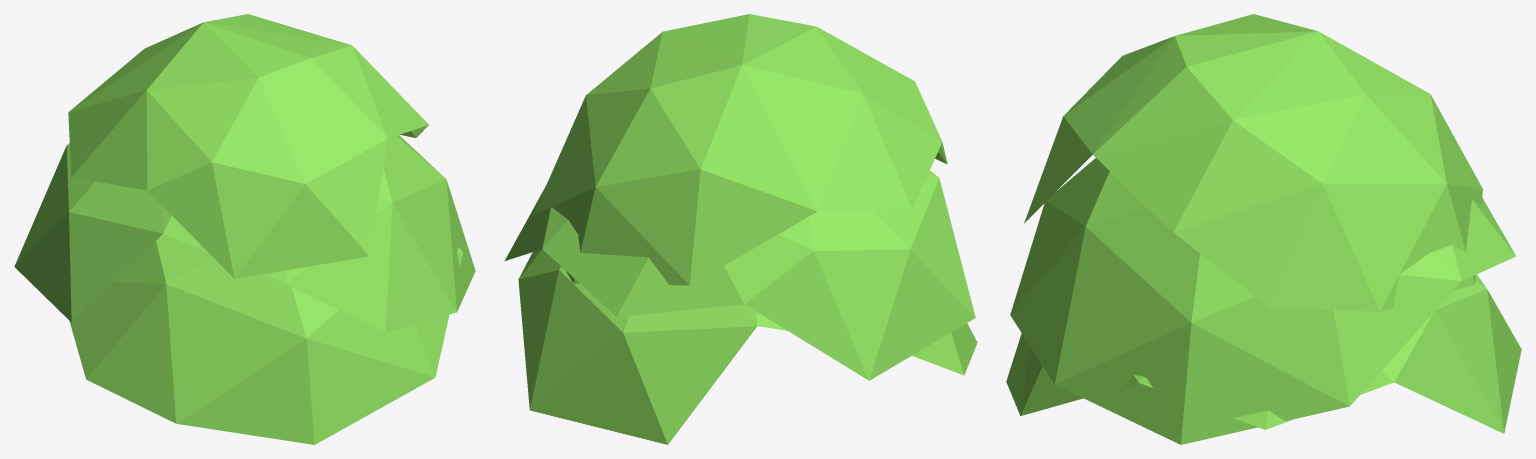
Rendered from BushMessy.fbx.
The picture shows the model from 3 angles, left to right: view 1: azimuth 30°, elevation 25°; view 2: azimuth 150°, elevation 25°; view 3: azimuth 270°, elevation 25°; orthographic projection. The views are drawn at different scales.
Parts seen in each view (by area): view 1: BushMessy; view 2: BushMessy; view 3: BushMessy.
Part boxes in pixels (<box>): BushMessy: <box>14,14,475,444</box>; BushMessy: <box>504,14,977,444</box>; BushMessy: <box>1006,14,1521,444</box>.
Bounding box in the file's own units: 200 × 154 × 198.
